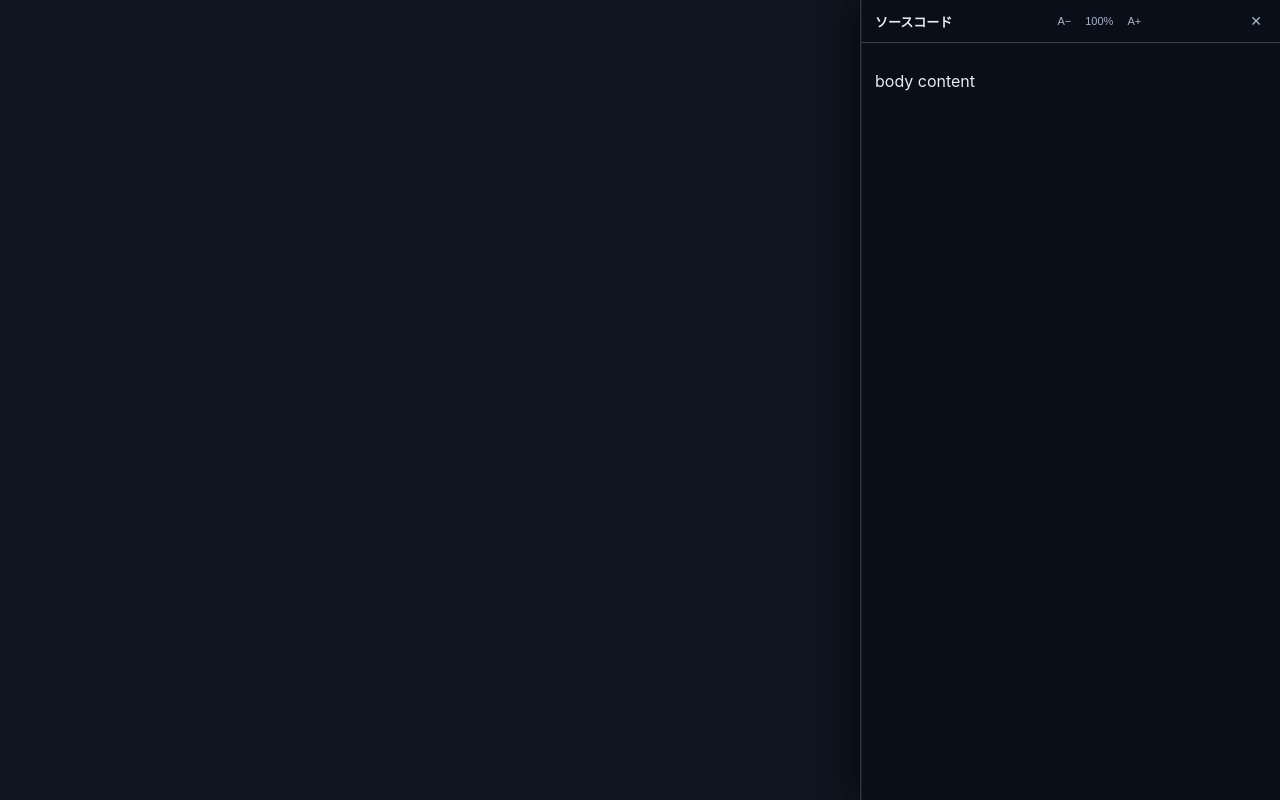
Test case: SidePanel font scale controls › increases the scale, updates the display and the custom property, and persists it
The width and height of the screenshot is (1280, 800).
Click the button with test id "side-panel-font-larger".
click(1134, 21)  # box [1121,12,1147,30]
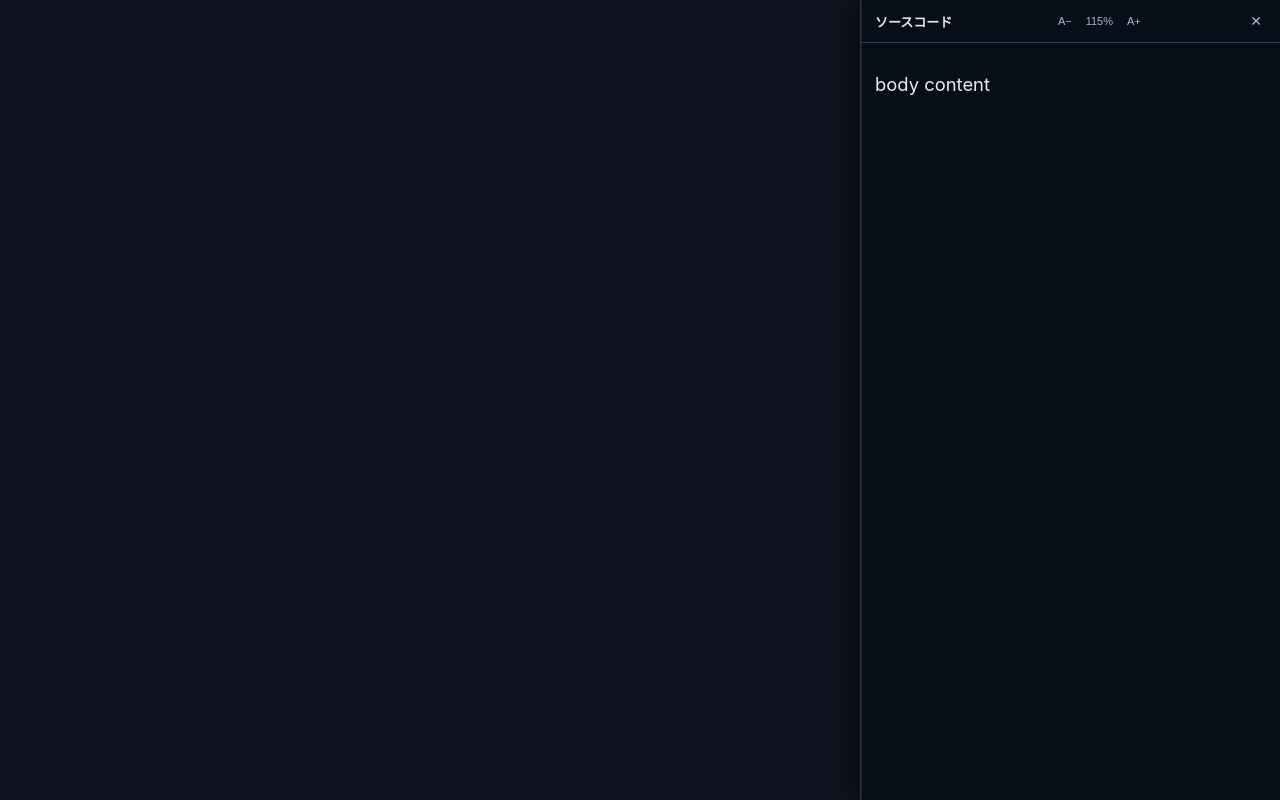
Check: the button with test id "side-panel-font-reset" reads "115%", box [1080,12,1119,30]
